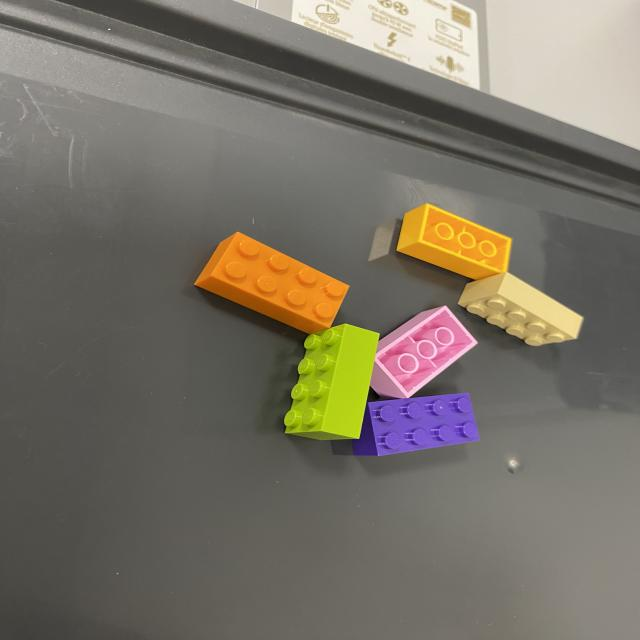C4x2x1: (211, 235, 350, 326), (290, 322, 382, 437), (375, 305, 480, 399), (357, 391, 482, 456), (398, 203, 482, 282), (461, 294, 576, 349), (421, 204, 511, 272), (499, 274, 585, 339), (191, 232, 240, 285)
